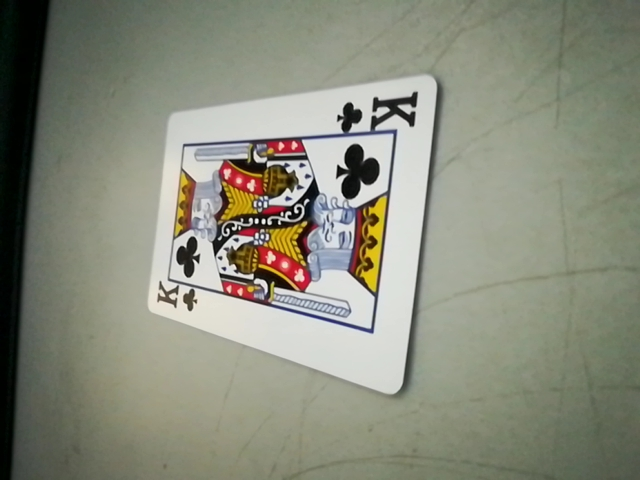mh k: (339, 87, 423, 136), (152, 277, 203, 315)
